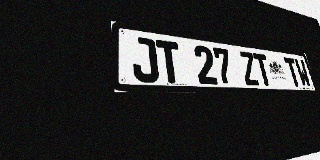2: (193, 45, 218, 84)
7: (211, 47, 235, 85)
J: (130, 36, 160, 83)
T: (156, 39, 183, 83), (252, 53, 273, 86), (283, 57, 302, 87)
W: (294, 58, 312, 87)
Z: (238, 51, 260, 85)
